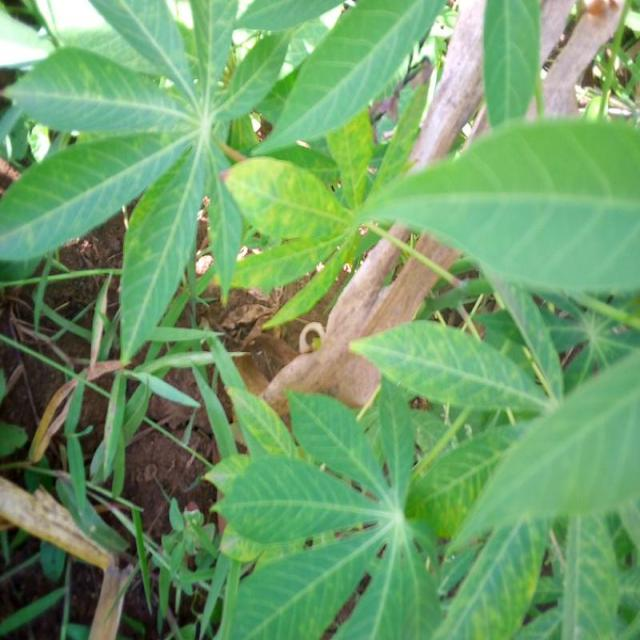cassava leaf: (358, 114, 640, 299)
